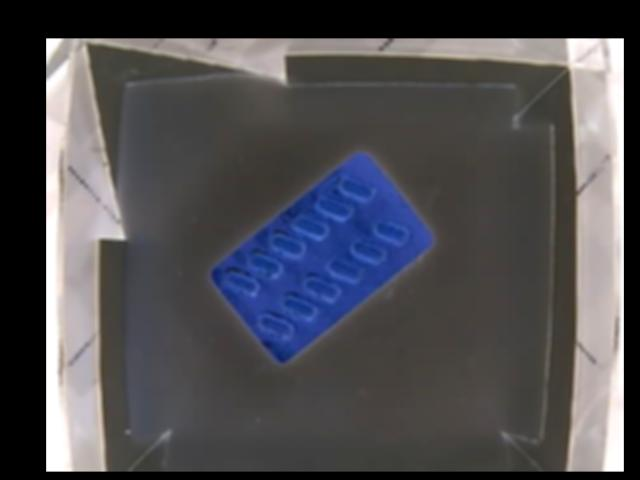Medicine: (208, 153, 438, 364)
